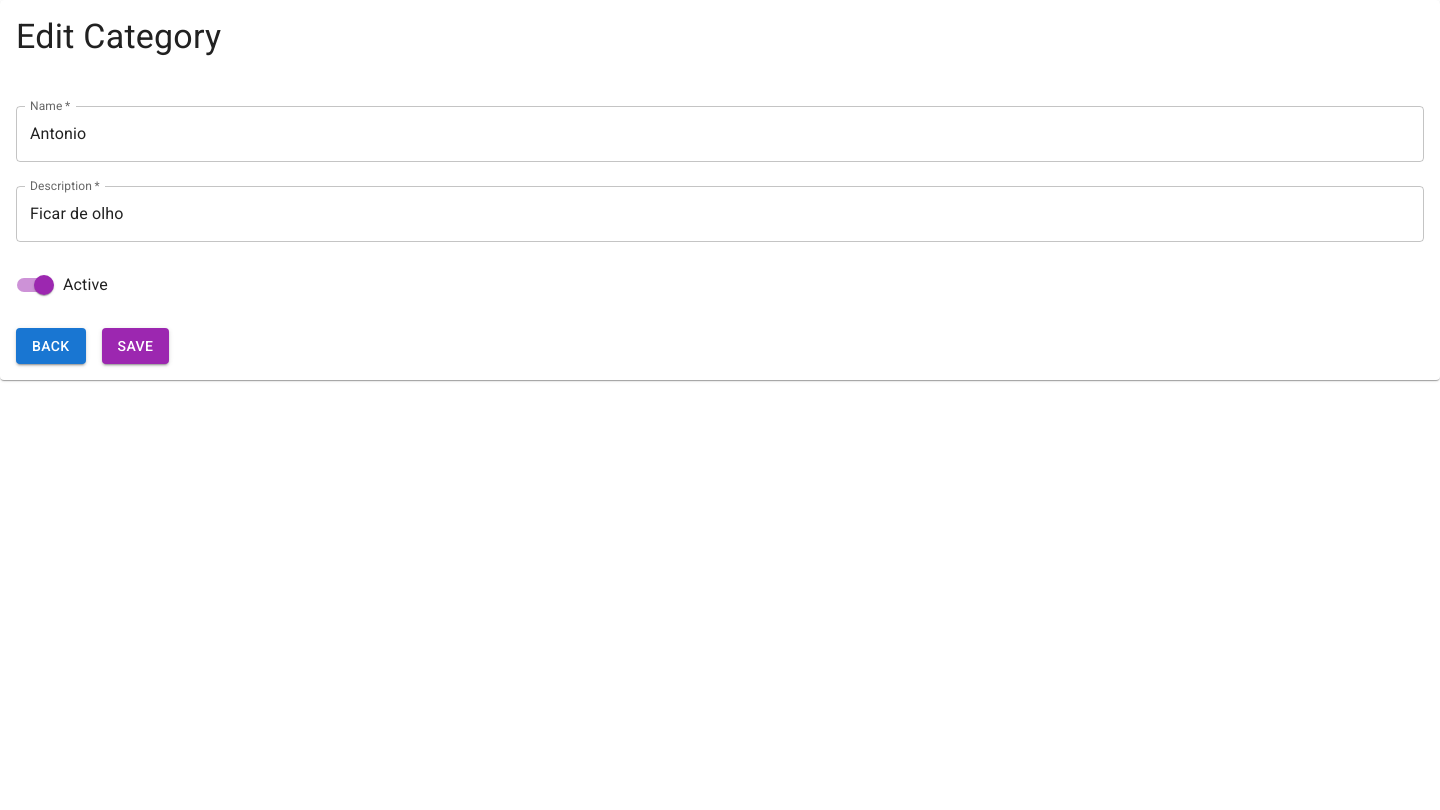
Test case: Edit category › should handle submit
Replace the text in the field with test id "textFieldName" with "Category 2" at (720, 134), box left=16, top=106, right=1424, bottom=162
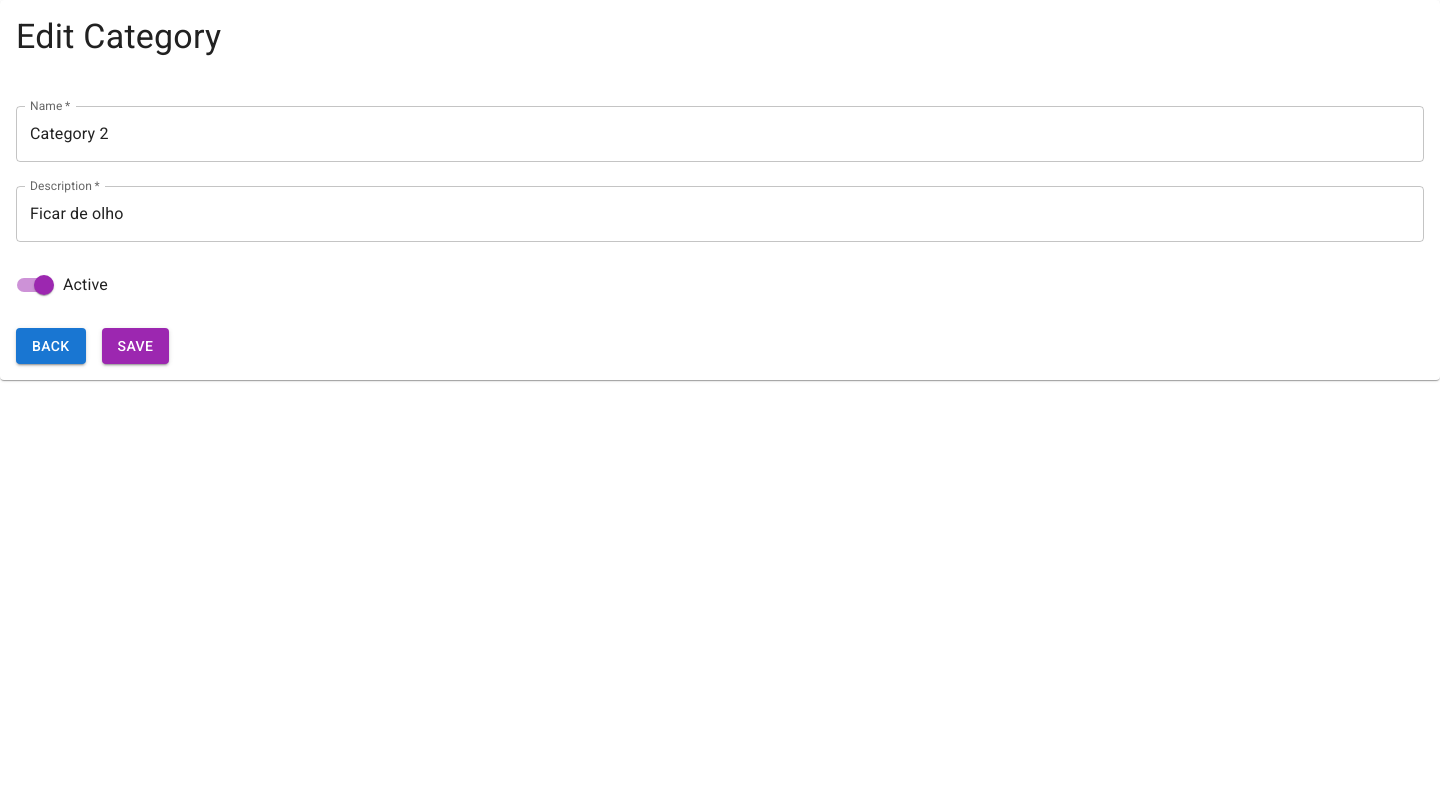
Replace the text in the field with test id "textFieldDescription" with "Description 2" at (720, 214), box left=16, top=186, right=1424, bottom=242
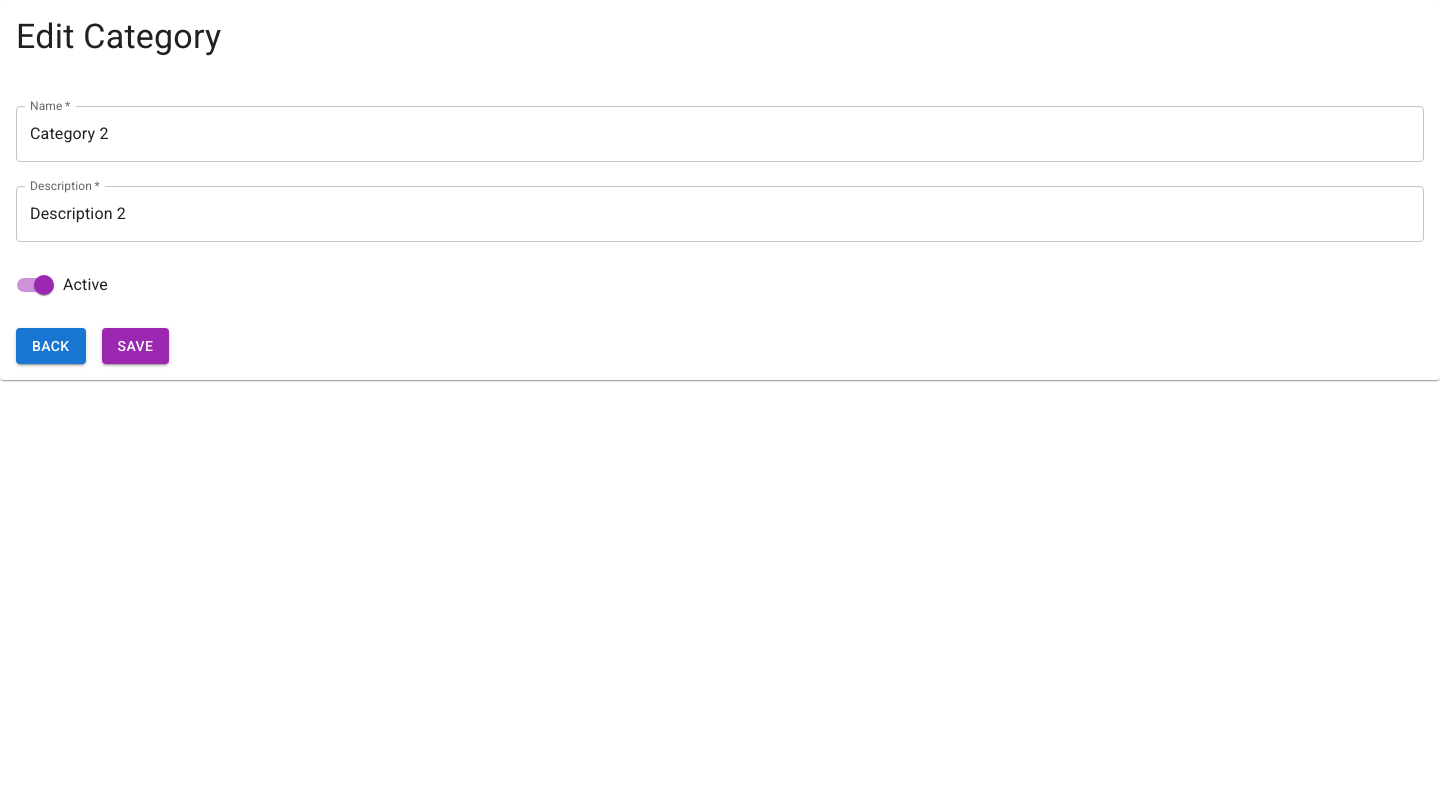
Click the element with test id "is_active" at (44, 285), box left=34, top=275, right=54, bottom=295
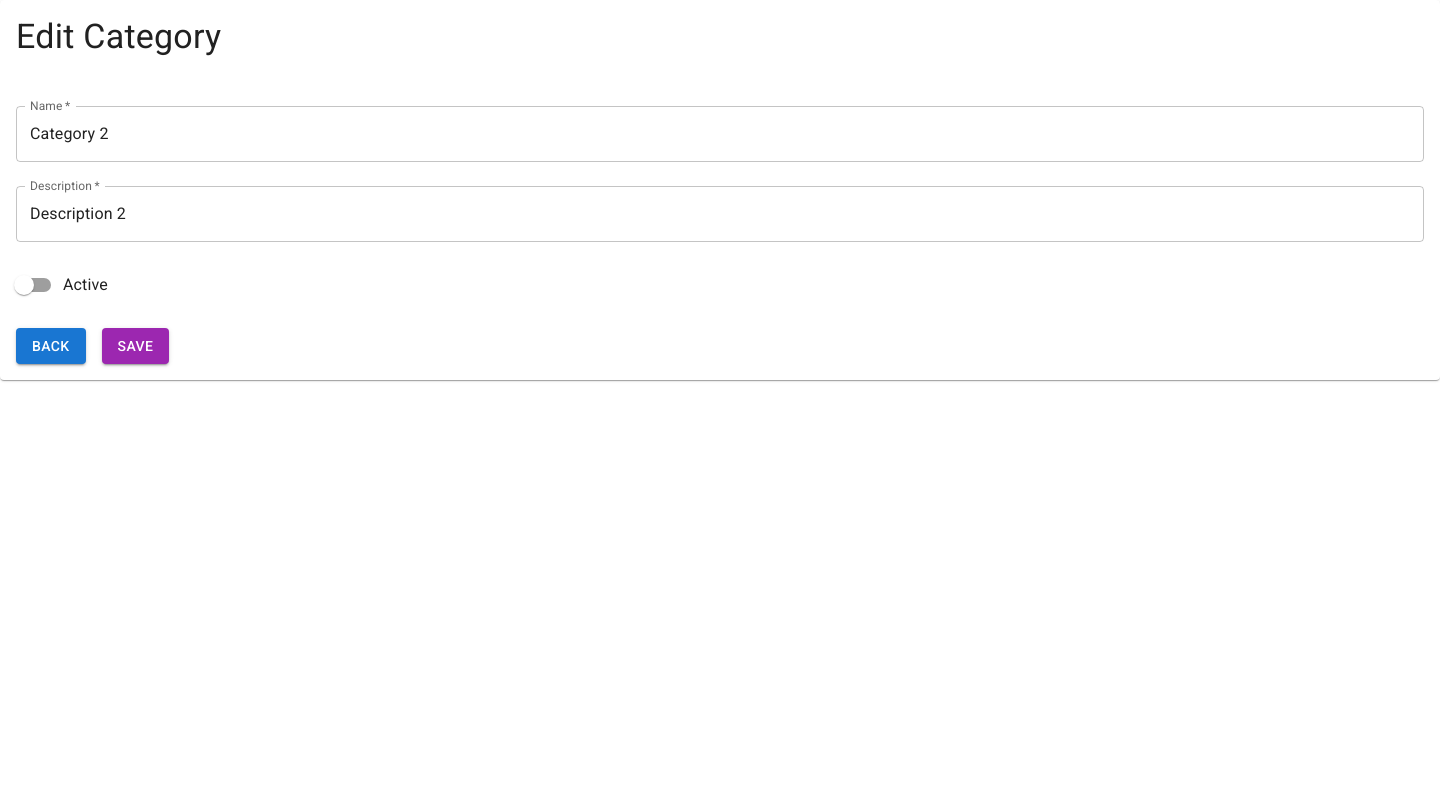
Click the button "Save" at (136, 346), box left=102, top=328, right=169, bottom=364
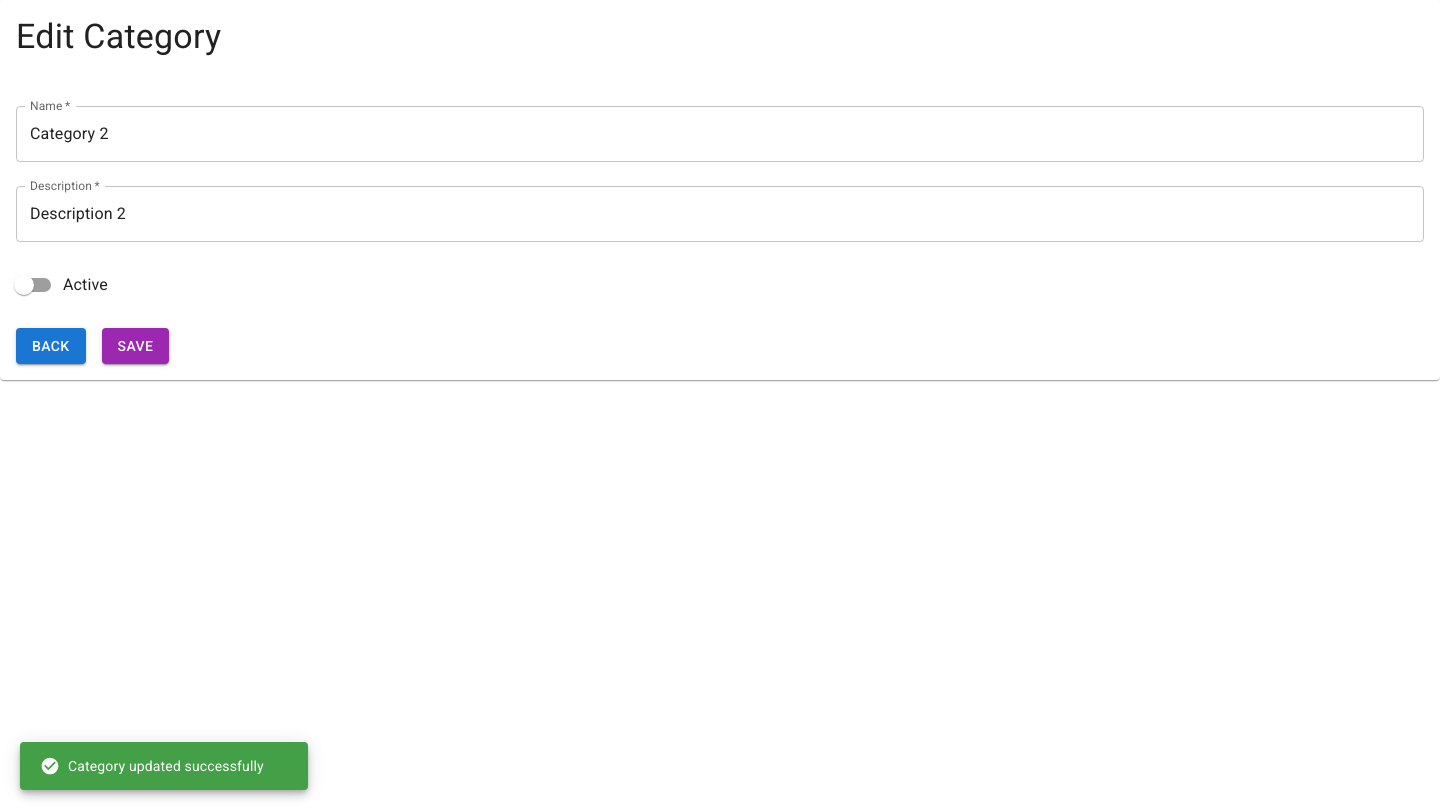
Check: the text "Category updated successfully" is shown, box left=40, top=756, right=264, bottom=776
